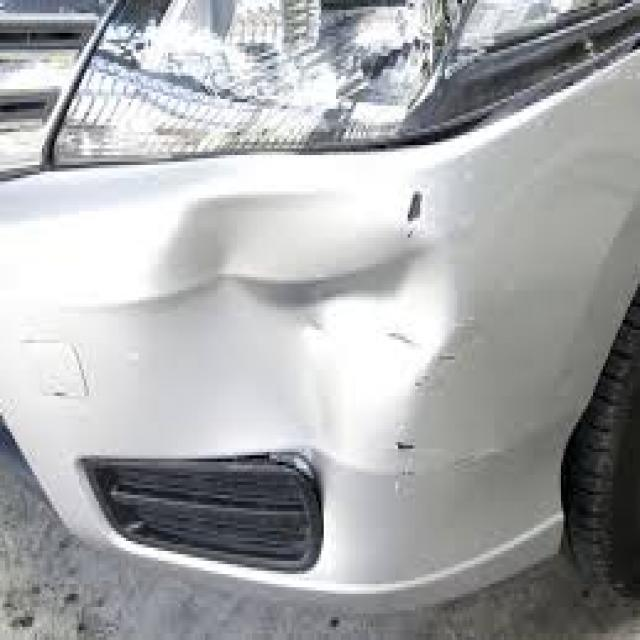moderate: (112, 148, 469, 501)
